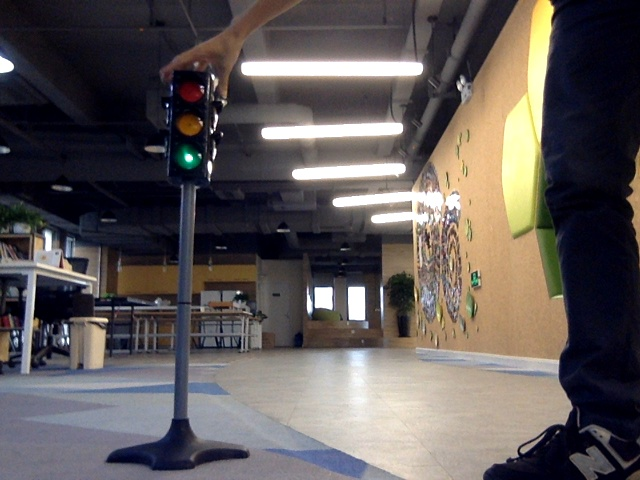green: (168, 76, 205, 174)
